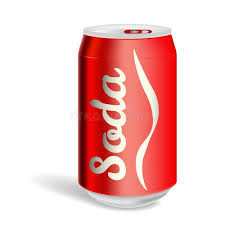can: (78, 23, 178, 208)
